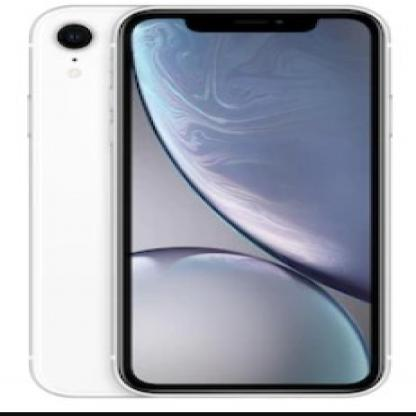SMARTPHONE: (28, 4, 396, 408)
